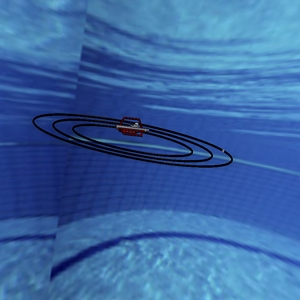circle: (17, 90, 251, 186)
submarine: (113, 111, 151, 144)
